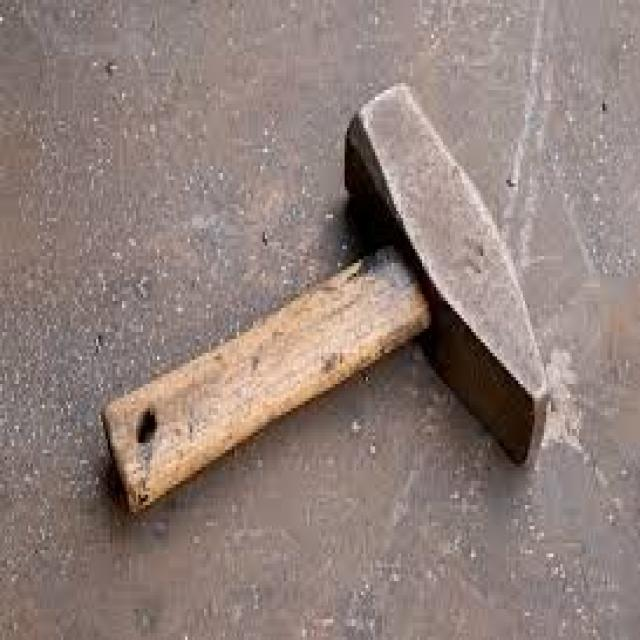hammer: (98, 72, 554, 526)
